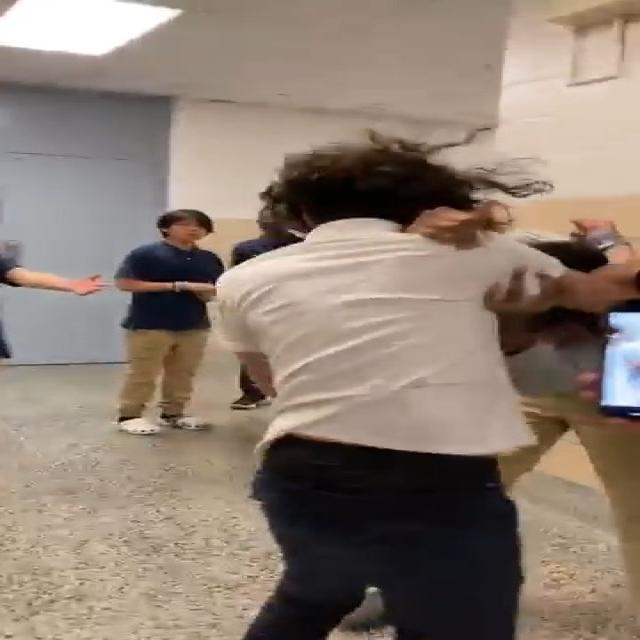fight: (214, 136, 636, 640)
